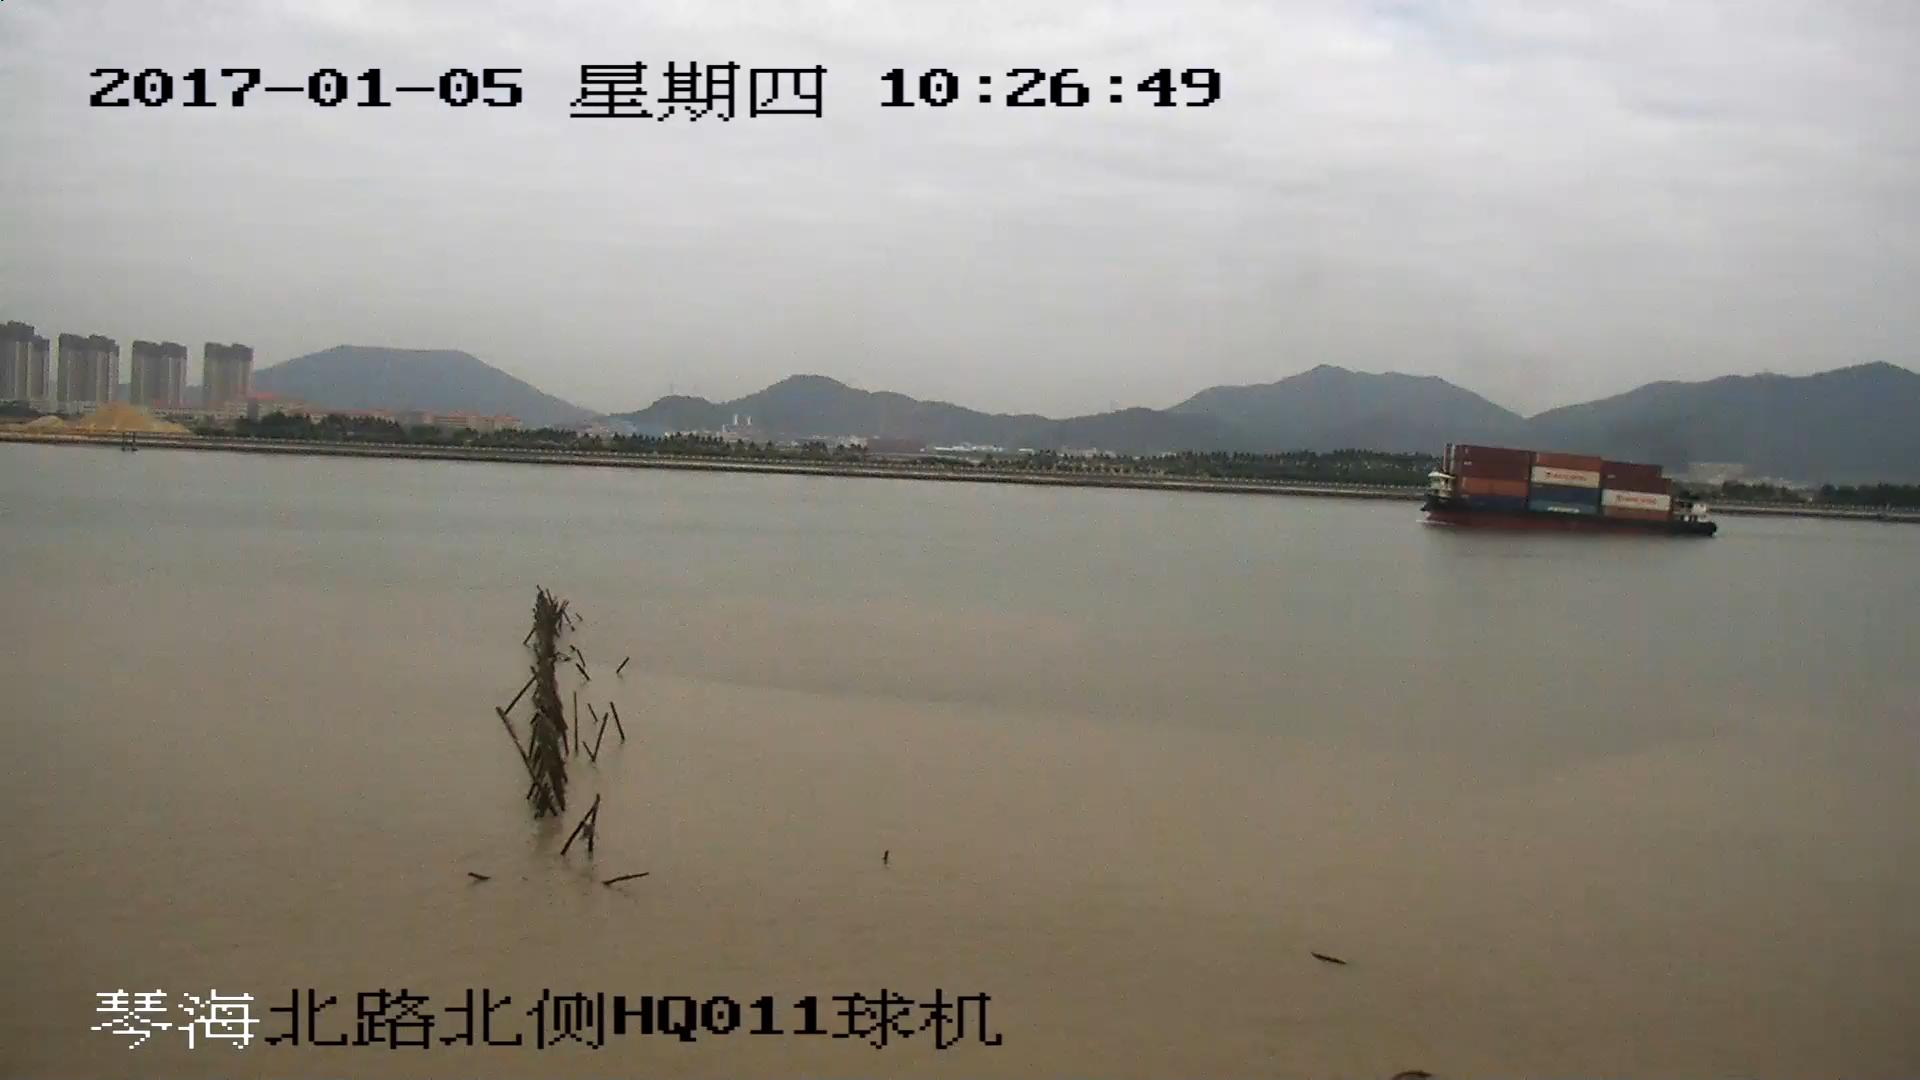container ship: (1422, 445, 1716, 540)
